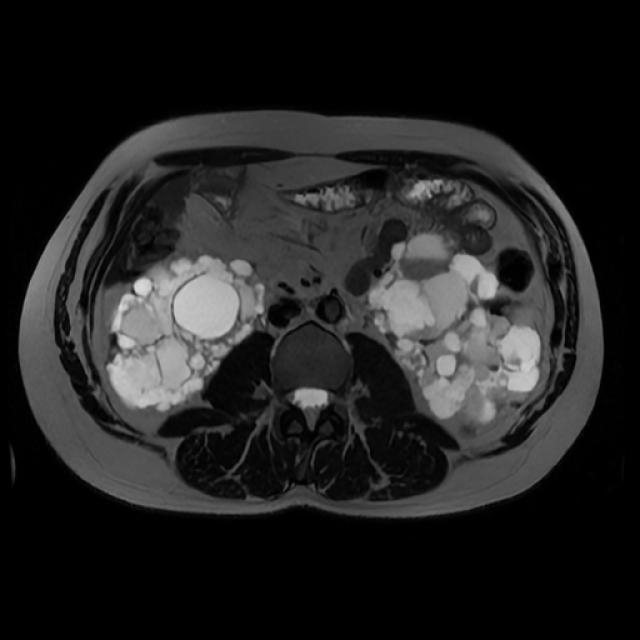sag: (104, 254, 267, 414)
sol: (366, 232, 543, 426)
